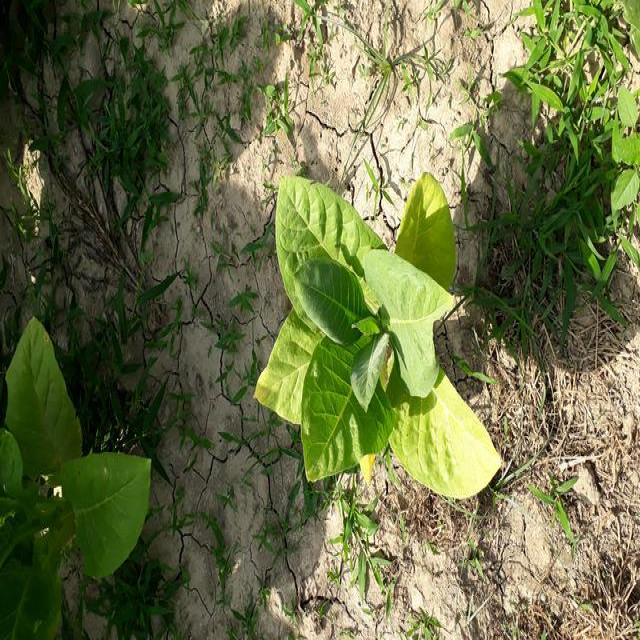crop: (270, 181, 510, 498), (0, 316, 149, 632)
